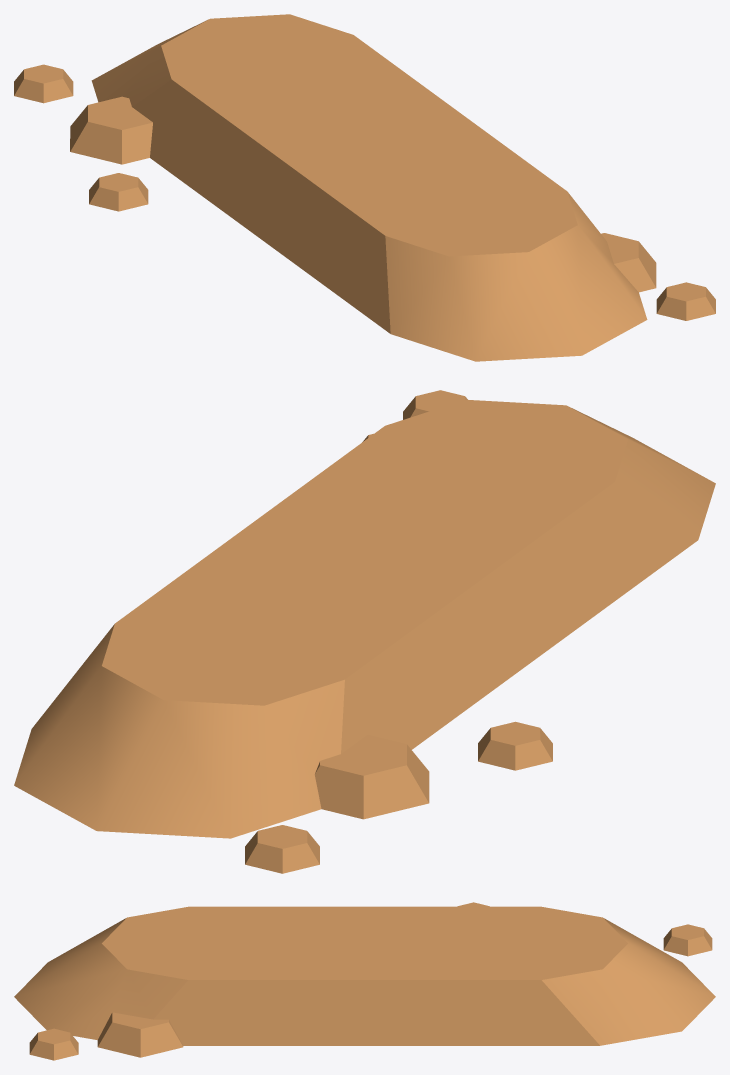
Rendered from grave.fbx.
The picture shows the model from 3 angles, top to bottom: view 1: azimuth 30°, elevation 25°; view 2: azimuth 150°, elevation 25°; view 3: azimuth 270°, elevation 25°; orthographic projection. The views are drawn at different scales.
Visible parts, largest first — view 1: grave; view 2: grave; view 3: grave.
Part boxes in pixels (x1,y1,x2,y2): grave: (14,14,715,361); grave: (14,390,715,873); grave: (14,902,715,1060).
Bounding box in the file's own units: 5.73 × 0.9522 × 11.32.
